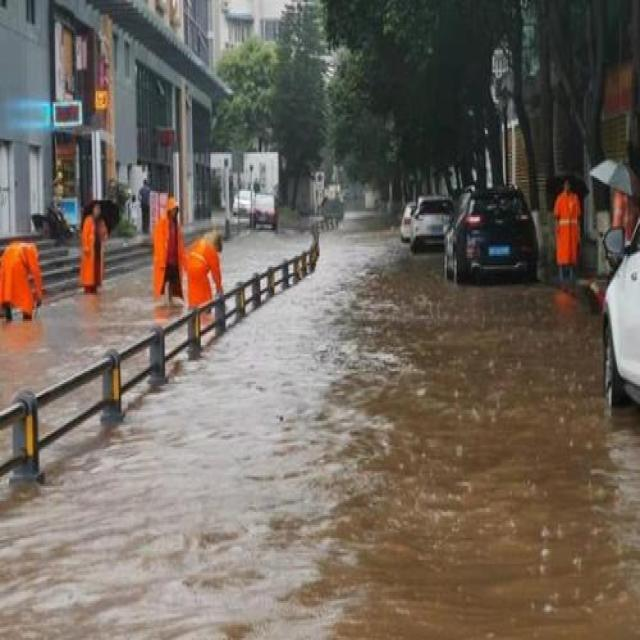rescuer: (71, 198, 122, 306), (550, 171, 589, 291), (2, 221, 44, 330), (182, 228, 234, 313), (149, 194, 191, 296)
